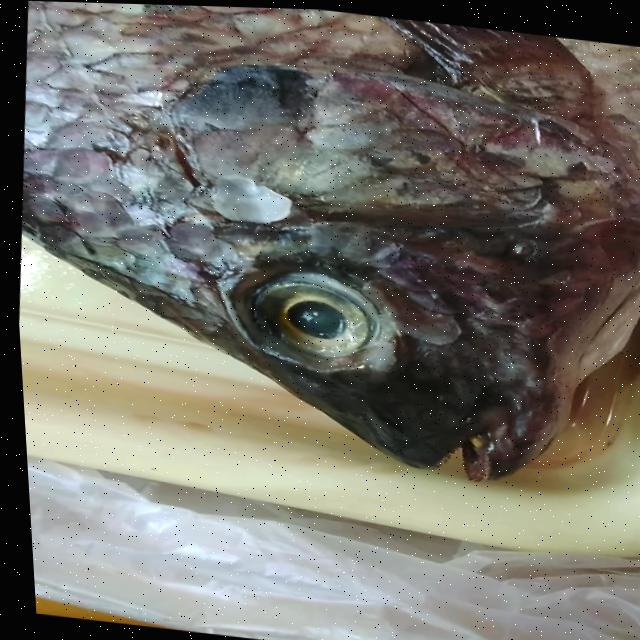Non-Fresh: (12, 0, 640, 257), (197, 240, 426, 392)
